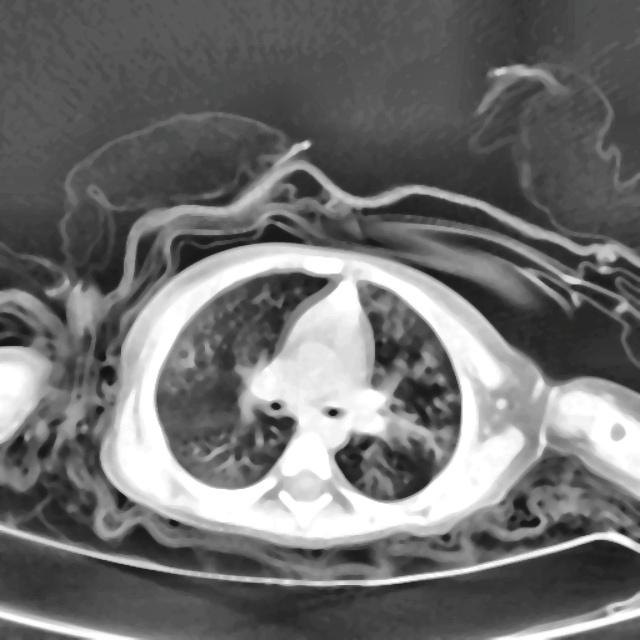covid: (96, 240, 636, 551)
